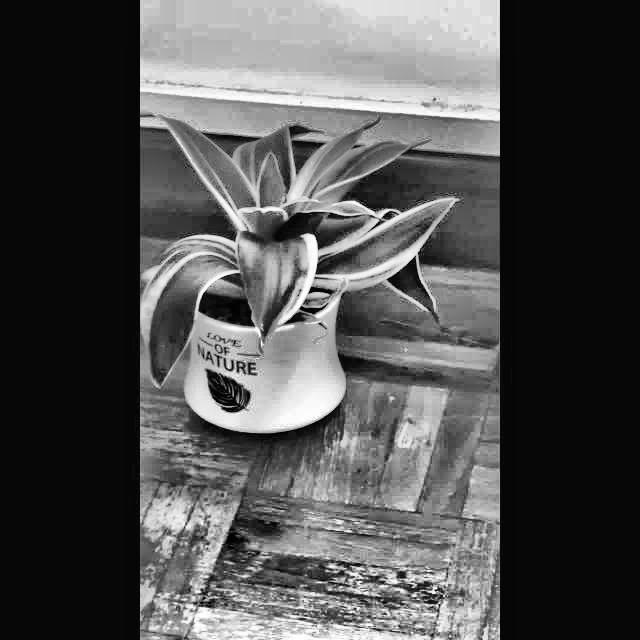plants: (140, 77, 458, 452)
